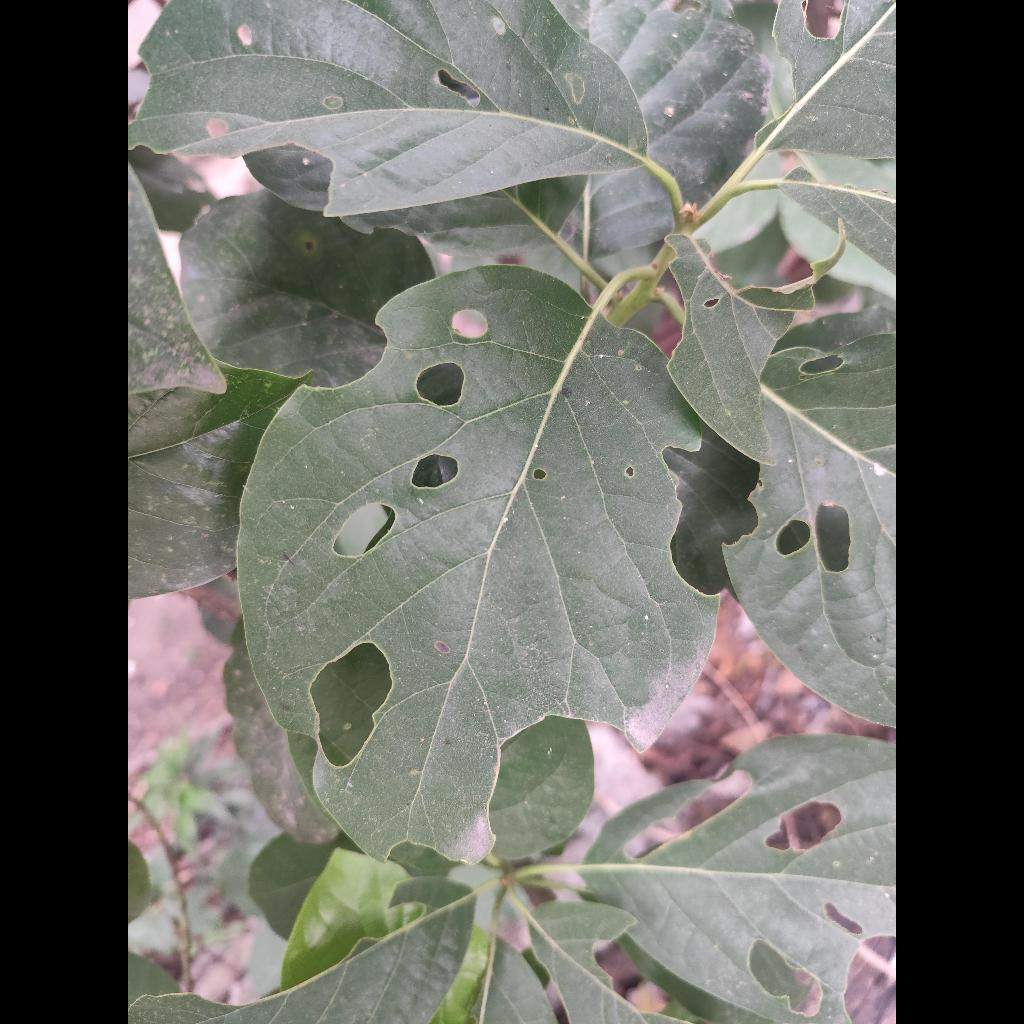Pest Infested: (238, 266, 717, 862)
